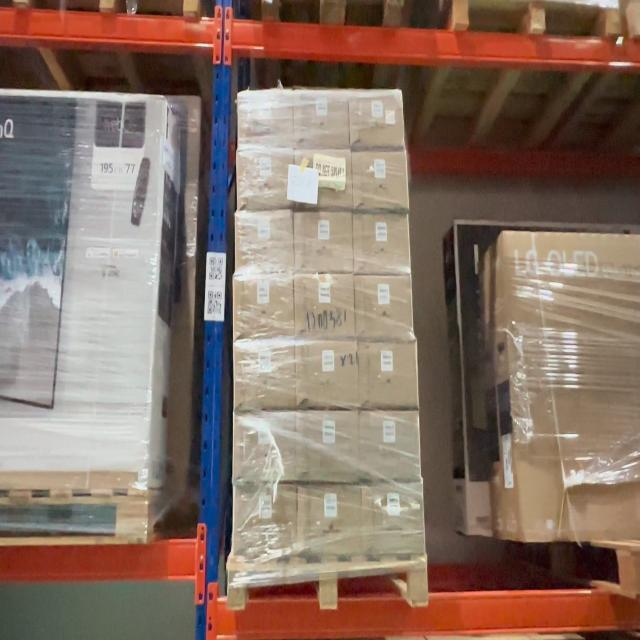box: (298, 414, 359, 484), (233, 414, 296, 481), (235, 489, 296, 553), (299, 491, 359, 554), (235, 344, 294, 406), (360, 344, 417, 408), (298, 348, 358, 408), (297, 278, 355, 339), (362, 414, 419, 476), (296, 212, 353, 272), (234, 276, 292, 332), (366, 492, 424, 546), (296, 151, 351, 207), (359, 280, 413, 337), (356, 217, 410, 271), (296, 90, 348, 146), (236, 153, 293, 204), (353, 153, 407, 206), (238, 95, 294, 146), (237, 216, 292, 267), (352, 95, 404, 145)
